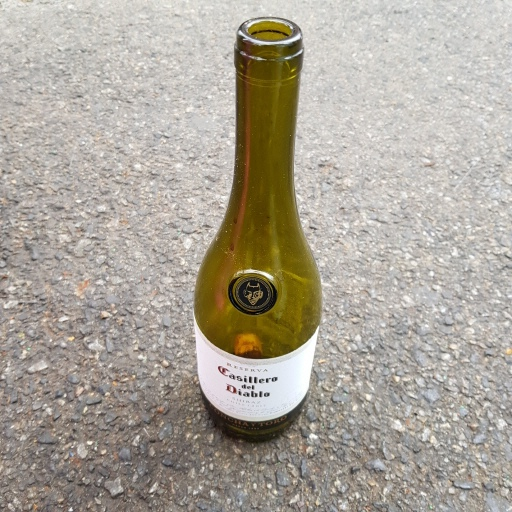Glass_2: (188, 18, 323, 442)
